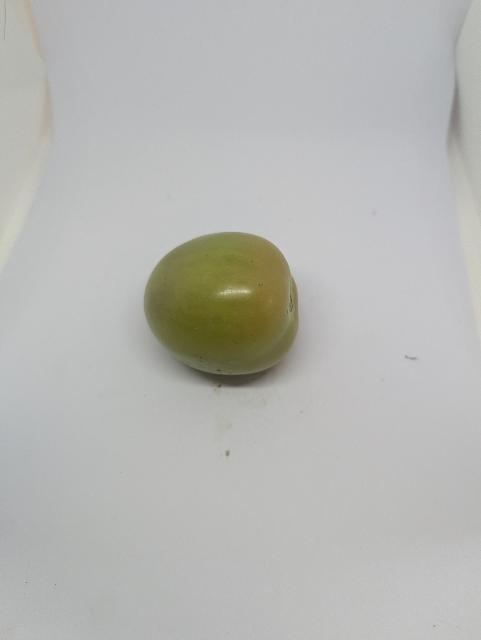green: (108, 196, 312, 384)
